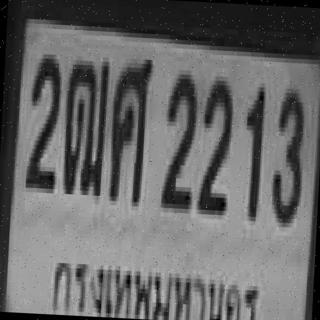A18: (61, 55, 109, 196)
A38: (107, 54, 152, 202)
N01: (241, 82, 265, 217)
N02: (159, 70, 197, 210), (24, 49, 62, 189), (196, 75, 233, 211)
N03: (269, 84, 305, 224)
P04: (50, 248, 262, 320)
